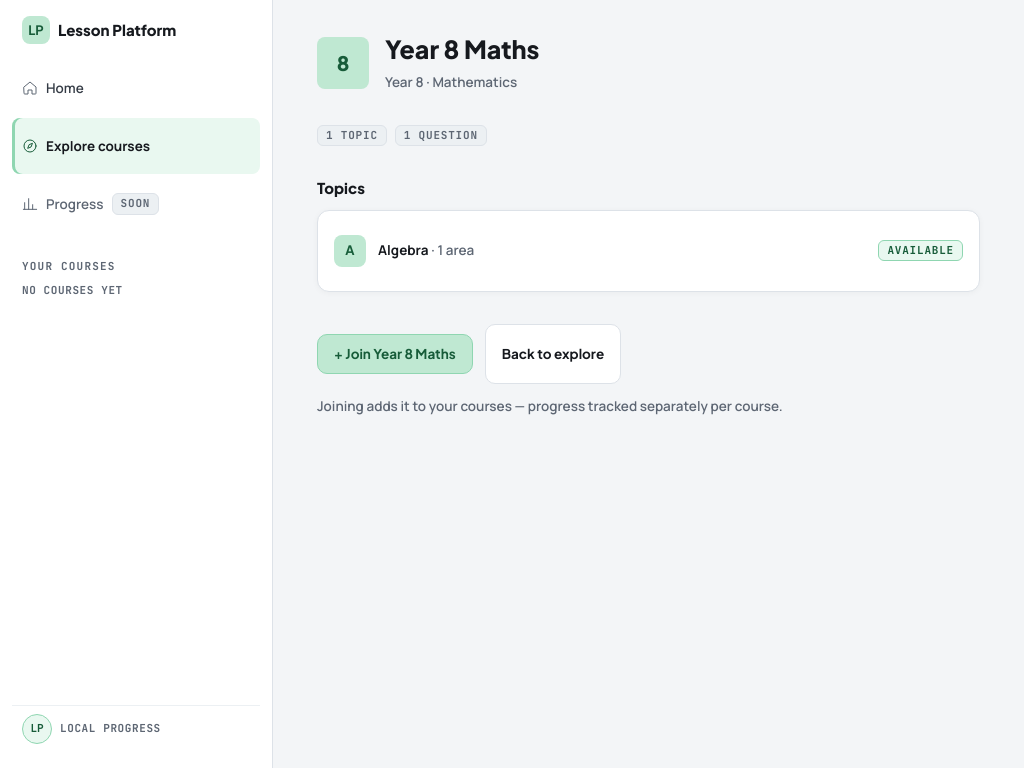
it: Course detail (/explore/:course) › shows badge, curriculum line, stats, topic list, and the join CTA row
Expected: the heading "Year 8 Maths" is shown, [385, 34, 539, 64]
Expected: the text "Year 8 · Mathematics" is shown, [385, 72, 539, 93]
Click the button "+ Join Year 8 Maths" at (395, 354), box [317, 334, 473, 374]
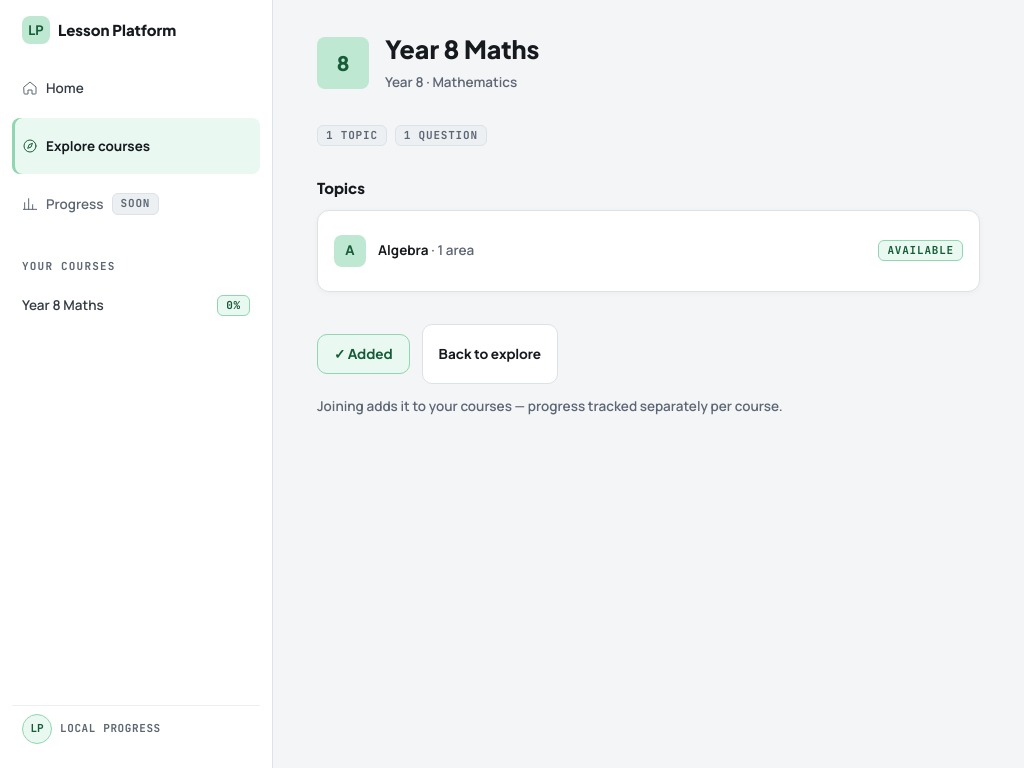
Result: the button "✓ Added" is shown at [317, 334, 410, 374]
